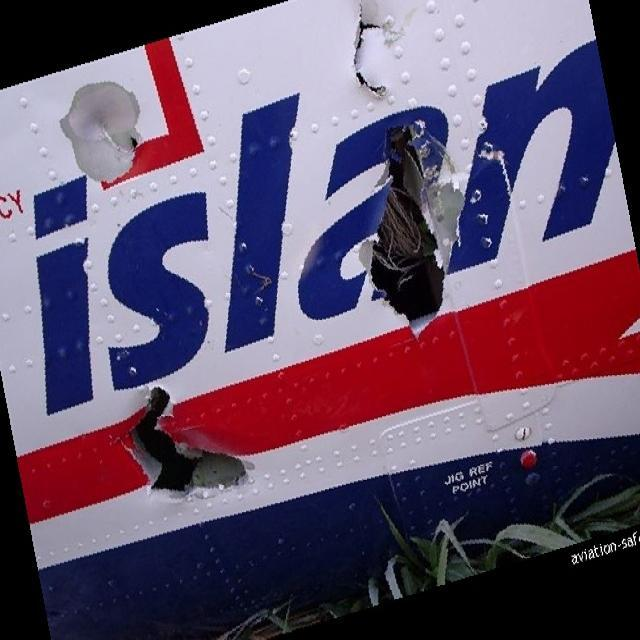crack: (365, 124, 467, 348), (123, 381, 253, 511), (351, 6, 392, 102), (97, 119, 147, 165)
